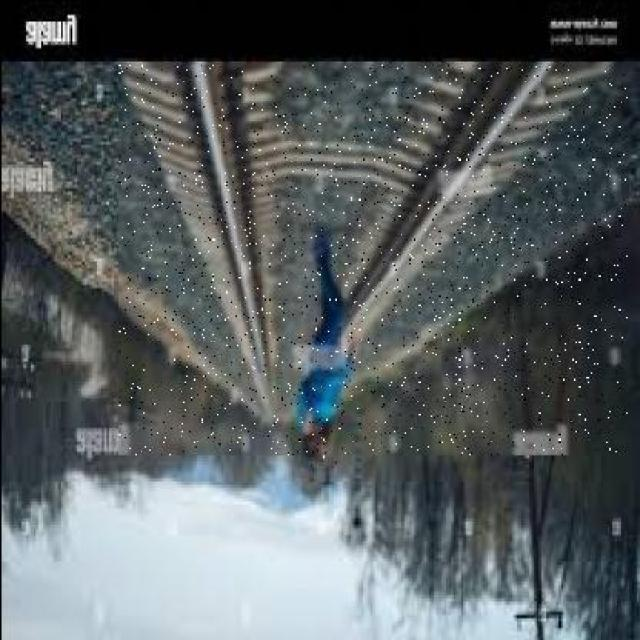danger: (298, 212, 349, 465)
rail: (118, 63, 626, 453)
